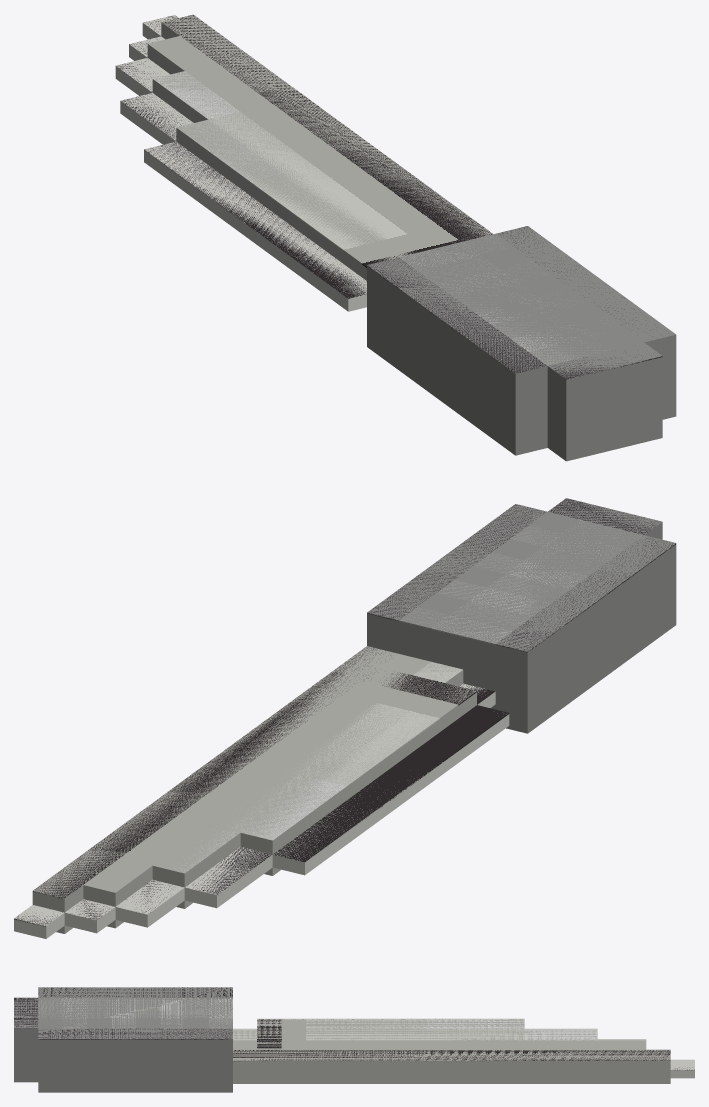
File: CMU3DLoosePlasticKnife.glb
3 renders of one model, top to bottom at view 1: azimuth 30°, elevation 25°; view 2: azimuth 150°, elevation 25°; view 3: azimuth 270°, elevation 25°, orthographic. The views are drawn at different scales.
Parts seen in each view (by area): view 1: ribbed plastic handle solid 1, plastic blade spine original surface, ribbed plastic handle solid 2, plastic blade spine solid 1, thin source curved cutting edge solid 5, plastic blade spine solid 4, plastic blade spine solid 2, ribbed plastic handle original surface, plastic blade spine solid 3, thin source curved cutting edge original surface, thin source curved cutting edge solid 4, thin source curved cutting edge solid 3; view 2: ribbed plastic handle solid 1, plastic blade spine original surface, plastic blade spine solid 1, plastic blade spine solid 2, plastic blade spine solid 3, ribbed plastic handle original surface, thin source curved cutting edge original surface, plastic blade spine solid 4, thin source curved cutting edge solid 5, thin source curved cutting edge solid 4, thin source curved cutting edge solid 3, ribbed plastic handle solid 2 (+2 smaller); view 3: ribbed plastic handle solid 1, plastic blade spine solid 1, plastic blade spine original surface, ribbed plastic handle original surface, plastic blade spine solid 2, plastic blade spine solid 3, plastic blade spine solid 4, ribbed plastic handle solid 2, thin source curved cutting edge solid 5, thin source curved cutting edge solid 1.
Part boxes in pixels (x1,y1,x2,y2): ribbed plastic handle solid 1: (367, 226, 676, 455); plastic blade spine original surface: (148, 15, 492, 267); ribbed plastic handle solid 2: (547, 342, 662, 461); plastic blade spine solid 1: (161, 14, 493, 240); thin source curved cutting edge solid 5: (144, 141, 366, 311); plastic blade spine solid 4: (176, 119, 395, 280); plastic blade spine solid 2: (147, 36, 458, 243); ribbed plastic handle original surface: (367, 226, 662, 379); plastic blade spine solid 3: (152, 71, 416, 257); thin source curved cutting edge original surface: (117, 16, 366, 298); thin source curved cutting edge solid 4: (120, 93, 193, 144); thin source curved cutting edge solid 3: (115, 58, 169, 95); ribbed plastic handle solid 1: (367, 504, 676, 733); plastic blade spine original surface: (33, 647, 476, 898); plastic blade spine solid 1: (32, 646, 398, 933); plastic blade spine solid 2: (83, 654, 430, 928); plastic blade spine solid 3: (152, 662, 463, 908); ribbed plastic handle original surface: (368, 498, 675, 652); thin source curved cutting edge original surface: (14, 684, 509, 926); plastic blade spine solid 4: (240, 684, 476, 875); thin source curved cutting edge solid 5: (272, 713, 509, 875); thin source curved cutting edge solid 4: (184, 847, 272, 908); thin source curved cutting edge solid 3: (115, 879, 184, 927); ribbed plastic handle solid 2: (548, 498, 662, 539); ribbed plastic handle solid 1: (38, 987, 232, 1092); plastic blade spine solid 1: (233, 1050, 670, 1083); plastic blade spine original surface: (233, 1019, 670, 1061); ribbed plastic handle original surface: (14, 987, 232, 1039); plastic blade spine solid 2: (233, 1040, 646, 1050); plastic blade spine solid 3: (233, 1030, 597, 1040); plastic blade spine solid 4: (257, 1019, 524, 1029); ribbed plastic handle solid 2: (14, 997, 38, 1082); thin source curved cutting edge solid 5: (257, 1018, 524, 1019); thin source curved cutting edge solid 1: (670, 1059, 694, 1078).
Size of the model in its own units: 0.1562 by 0.076 by 0.875.
6 materials, 3 textured.
